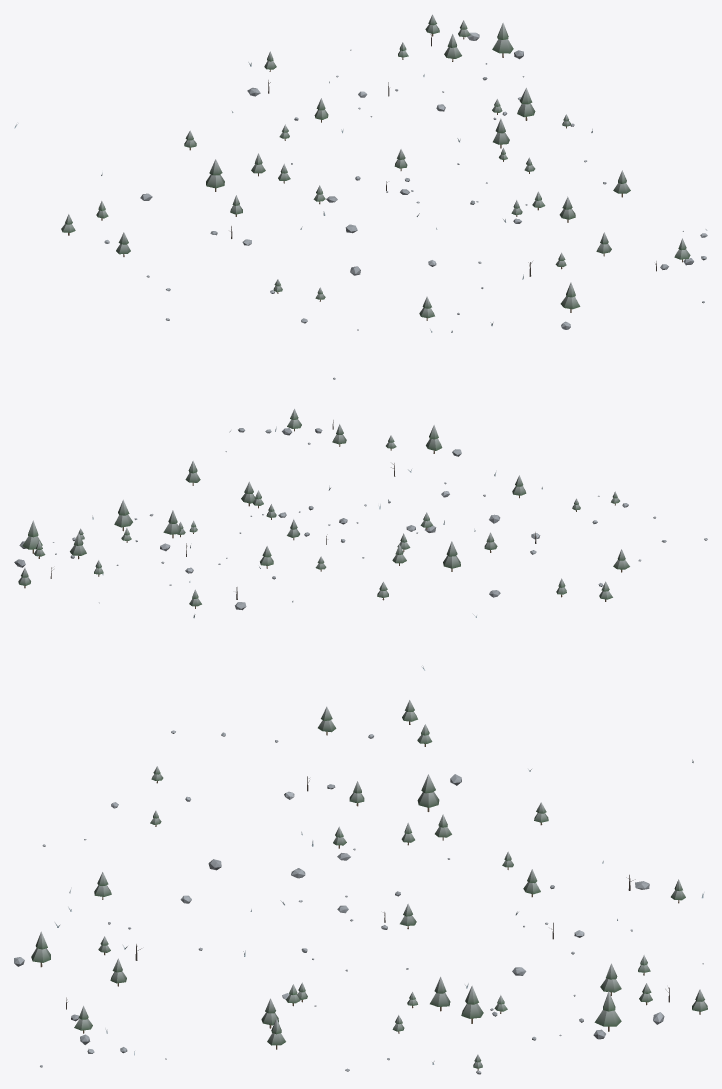
File: frost_land_scatter_c14_11_lod1.glb
3 views of the same model, one above another, from view 1: azimuth 30°, elevation 25°; view 2: azimuth 150°, elevation 25°; view 3: azimuth 270°, elevation 25° (orthographic). The views are drawn at different scales.
Parts seen in each view (by area): view 1: frost_land_scatter_c14_11_lod1; view 2: frost_land_scatter_c14_11_lod1; view 3: frost_land_scatter_c14_11_lod1.
Boxes of the visible parts, bbox=[...] form: frost_land_scatter_c14_11_lod1: bbox=[14, 14, 707, 379]; frost_land_scatter_c14_11_lod1: bbox=[14, 409, 707, 670]; frost_land_scatter_c14_11_lod1: bbox=[14, 700, 707, 1074].
Bounding box in the file's own units: 259 × 44.97 × 248.
